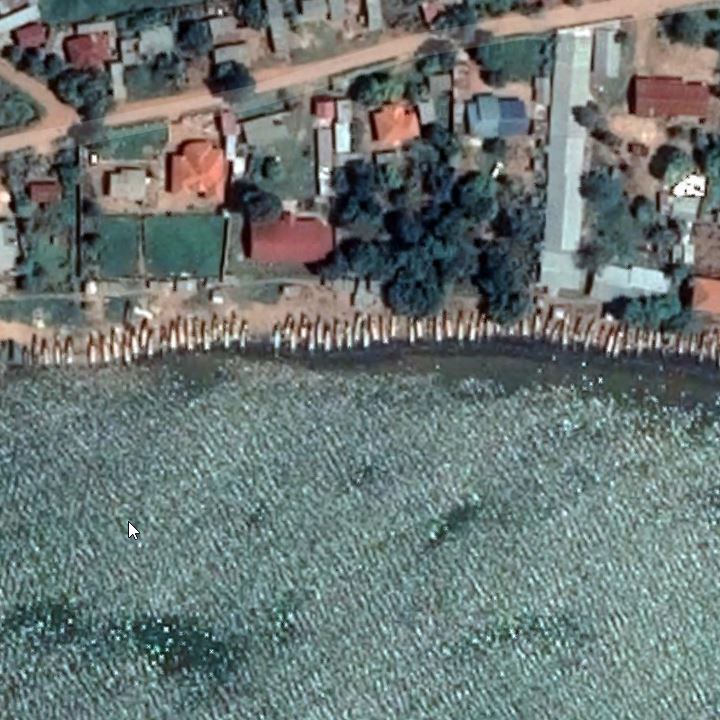boat: (106, 327, 123, 369), (126, 327, 145, 363), (118, 332, 136, 370), (198, 319, 214, 356), (226, 308, 241, 347), (611, 324, 625, 363), (297, 310, 310, 352), (84, 332, 98, 371), (166, 318, 178, 361), (266, 323, 282, 355), (343, 323, 358, 357), (191, 316, 204, 355), (176, 316, 188, 358), (205, 314, 218, 352), (359, 322, 375, 352), (99, 332, 111, 372), (352, 314, 365, 350), (237, 319, 249, 358), (145, 331, 158, 367), (138, 314, 150, 353), (366, 314, 381, 345), (332, 319, 344, 357), (65, 333, 77, 370), (454, 312, 467, 346), (219, 319, 231, 355), (186, 318, 197, 357), (158, 324, 169, 363), (52, 336, 64, 371), (572, 315, 583, 353), (604, 324, 615, 362), (314, 312, 325, 349), (441, 312, 455, 341), (562, 315, 572, 354), (630, 325, 642, 357), (541, 312, 553, 343), (430, 314, 442, 345), (584, 319, 594, 356), (40, 336, 50, 373), (675, 330, 687, 360), (324, 326, 336, 356), (468, 310, 478, 345), (415, 316, 427, 345), (406, 314, 416, 348), (281, 310, 291, 344), (288, 320, 297, 357), (30, 332, 39, 369), (622, 324, 632, 357), (533, 312, 543, 345), (696, 332, 706, 364), (688, 327, 697, 362), (390, 308, 399, 343), (550, 320, 561, 348), (379, 320, 390, 348), (519, 315, 530, 342), (307, 322, 316, 355), (22, 343, 31, 376), (708, 333, 717, 365), (643, 327, 653, 355), (654, 327, 665, 352), (478, 314, 487, 341)
